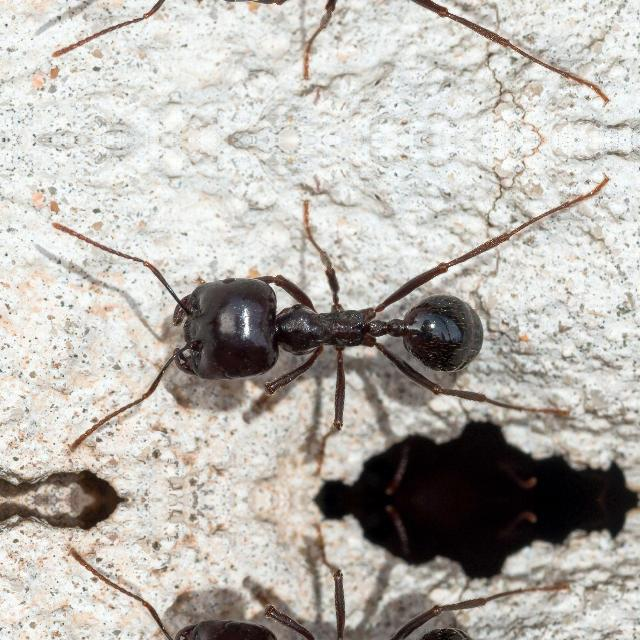Messor: (145, 237, 500, 441), (145, 559, 500, 640), (145, 0, 500, 43)
